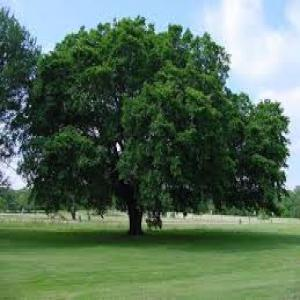Tree: (24, 14, 290, 233)
